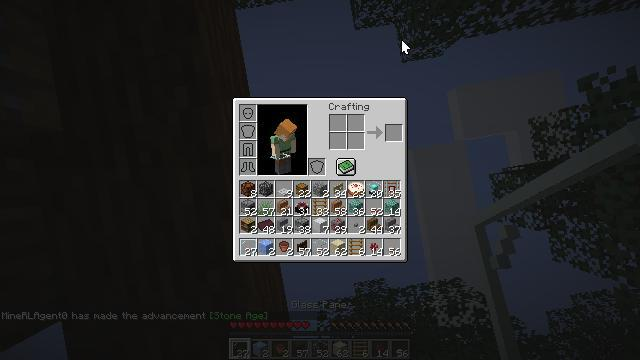cursor: (401, 39, 411, 55)
